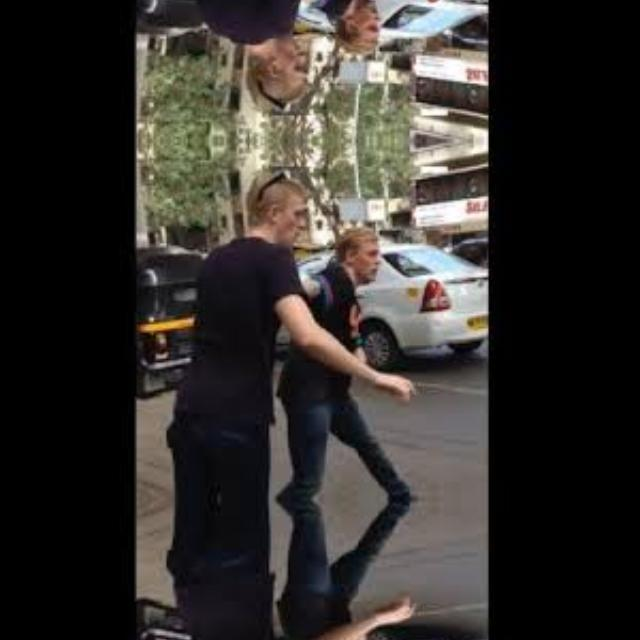person: (189, 167, 321, 499), (304, 222, 402, 498), (189, 498, 321, 640), (189, 0, 321, 113), (304, 498, 402, 640), (304, 0, 402, 58)
